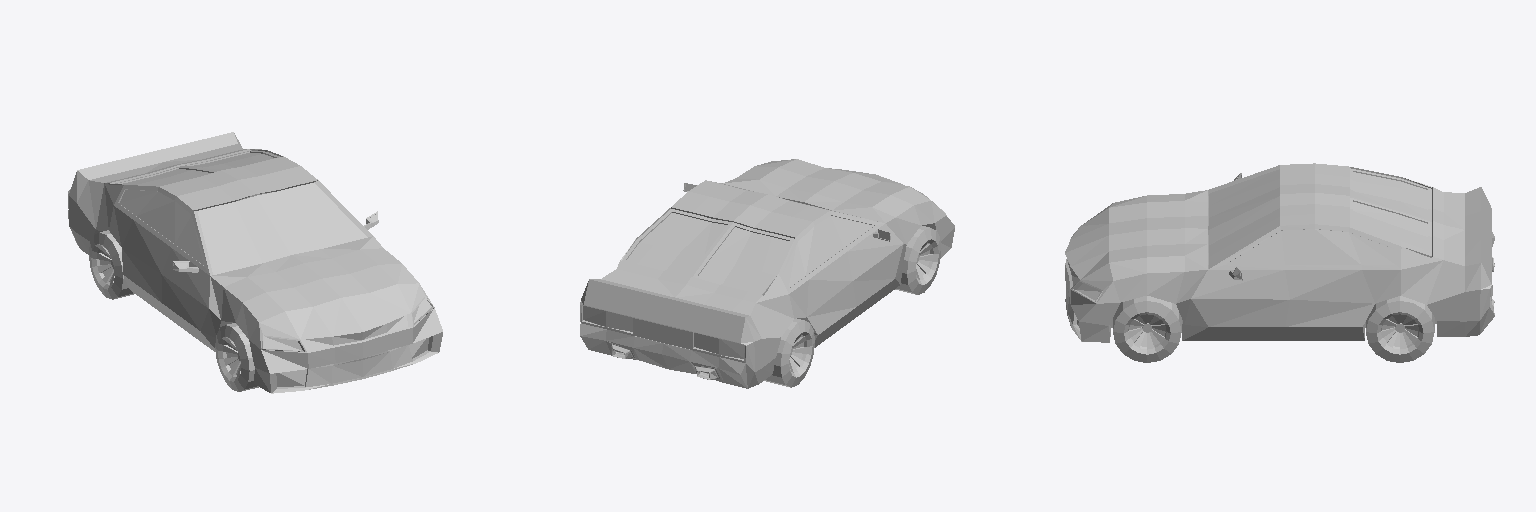
The model's file is lowpoly car.obj.
3 views of the same model, side by side, from view 1: azimuth 30°, elevation 25°; view 2: azimuth 150°, elevation 25°; view 3: azimuth 270°, elevation 25° (orthographic).
Parts seen in each view (by area): view 1: Cube; view 2: Cube; view 3: Cube.
Boxes of the visible parts, box(x1,y1,x2,y2) form: Cube: box(68, 132, 442, 393); Cube: box(580, 159, 954, 388); Cube: box(1065, 163, 1494, 362).
Bounding box in the file's own units: 2.68 × 1.57 × 4.84.